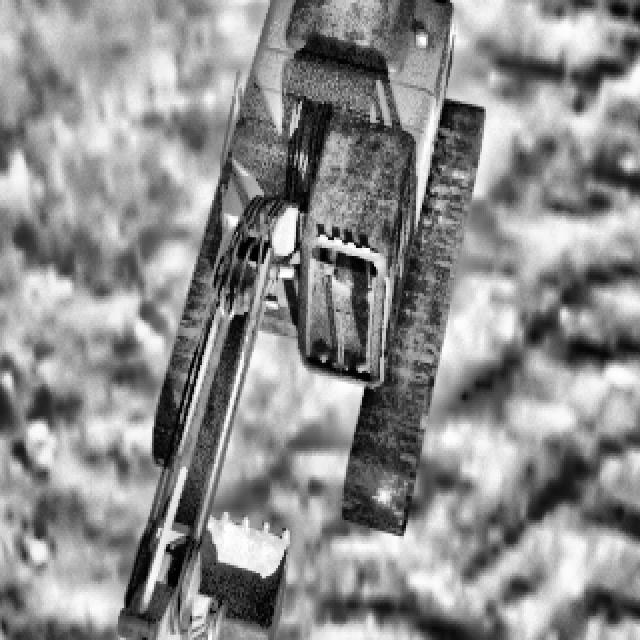excavator: (116, 0, 484, 640)
